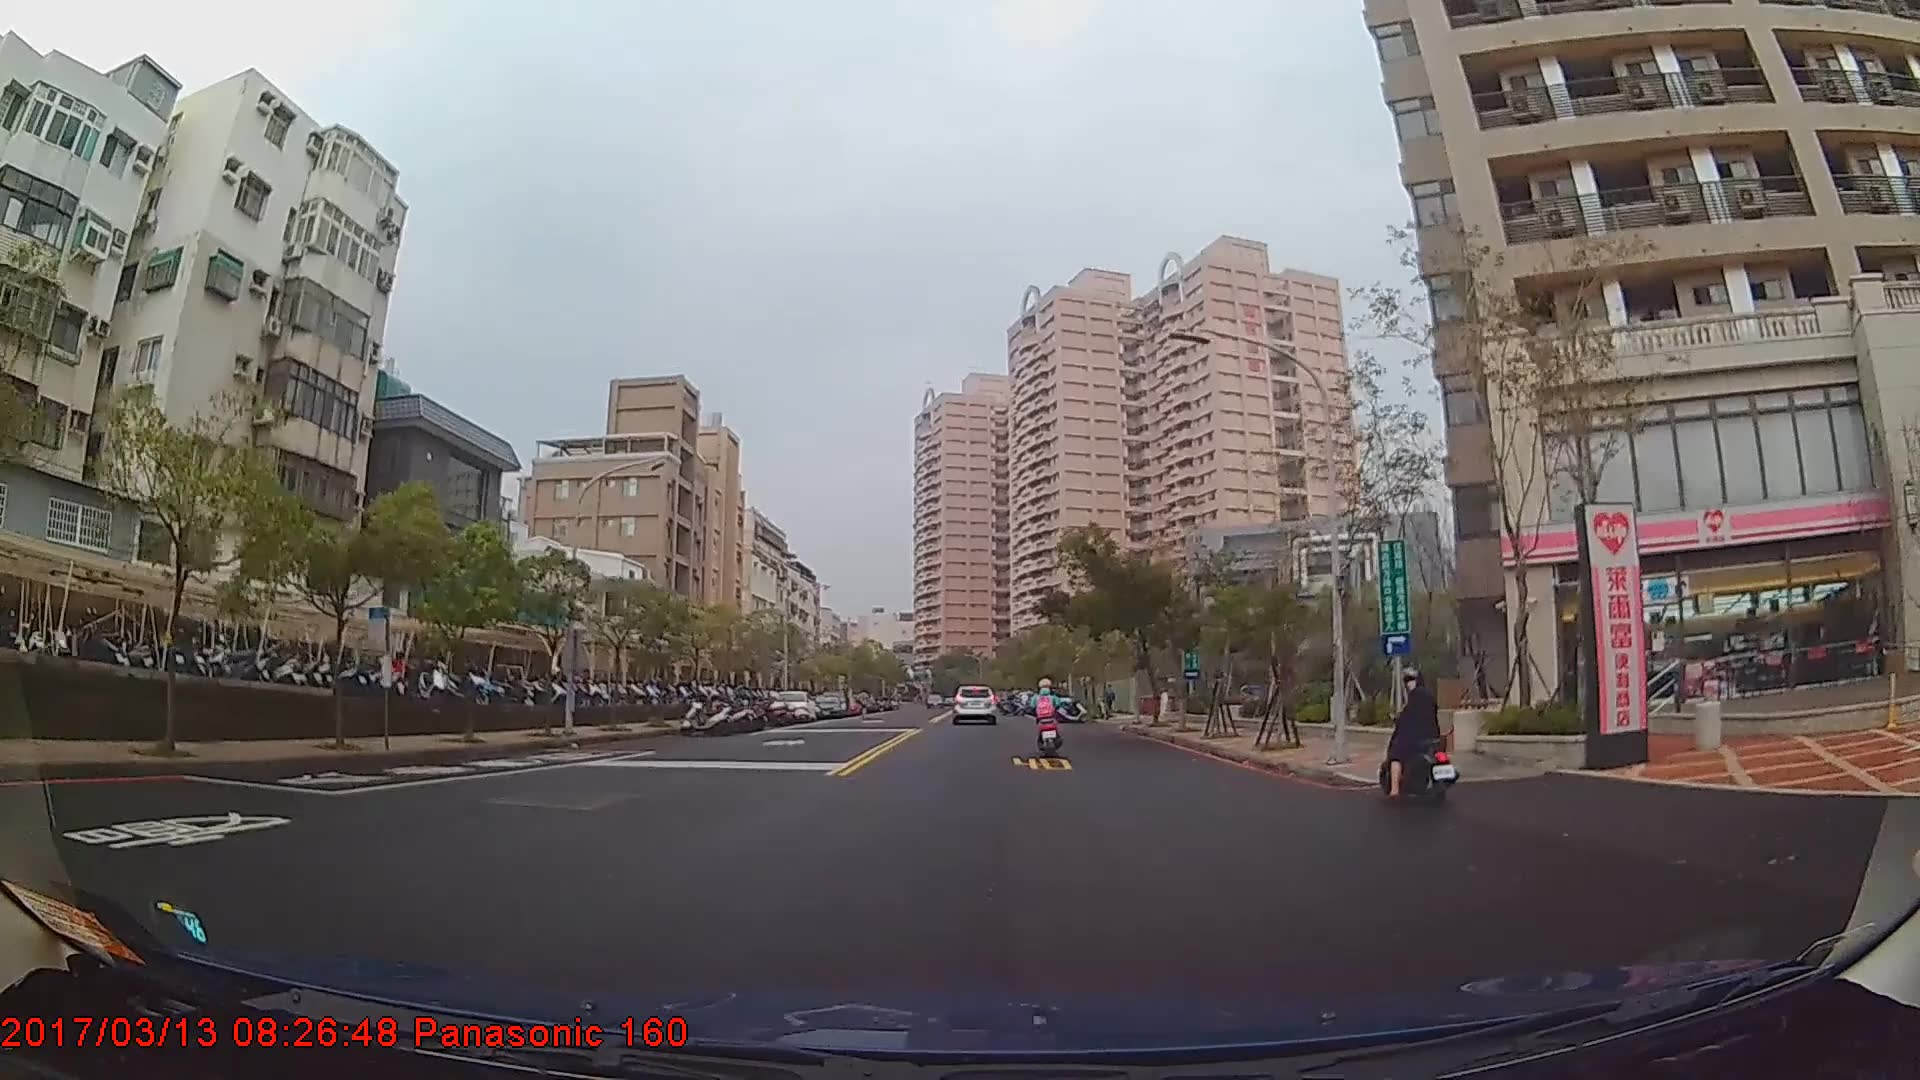rider: (1377, 673, 1468, 817), (1030, 678, 1067, 757)
vehicle: (950, 683, 1001, 722), (769, 690, 817, 722)
